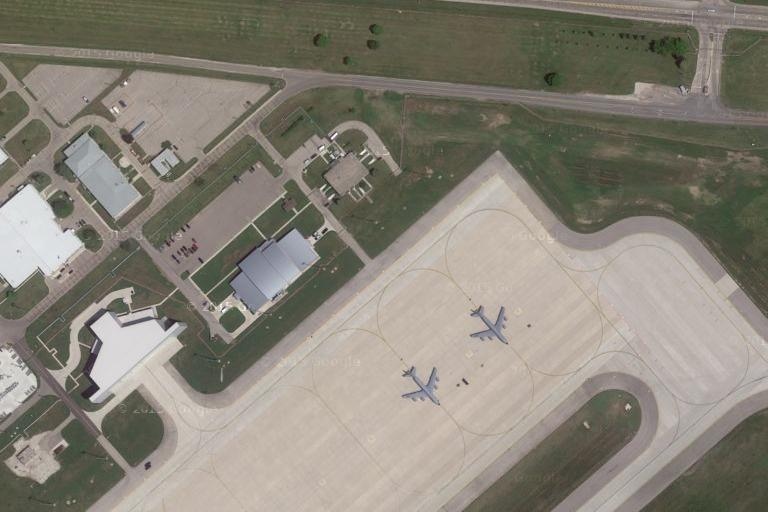KC-135: (465, 303, 512, 349), (398, 362, 444, 408)
